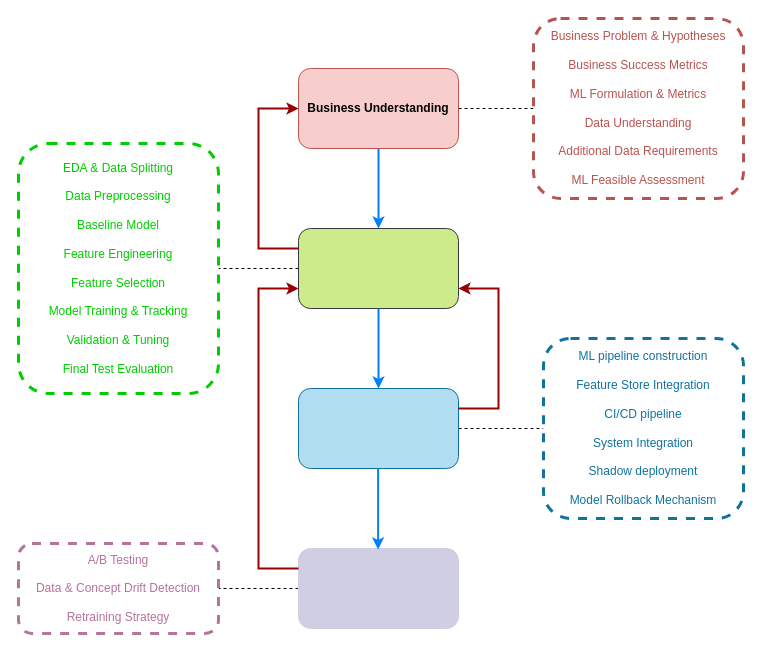
Image size: 762x652. Some labels were removed from this diagram. The centre of each missing label's shape, as x and y in pixels:
"Deployment & Operations" goes at (x=378, y=428).
"Model Development & Experimentation" goes at (x=378, y=268).
"Production Monitoring" goes at (x=378, y=588).
